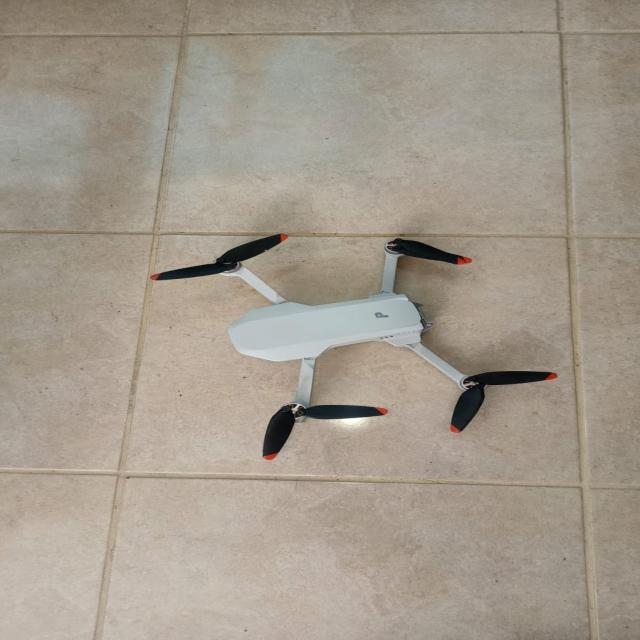dron: (130, 220, 546, 462)
